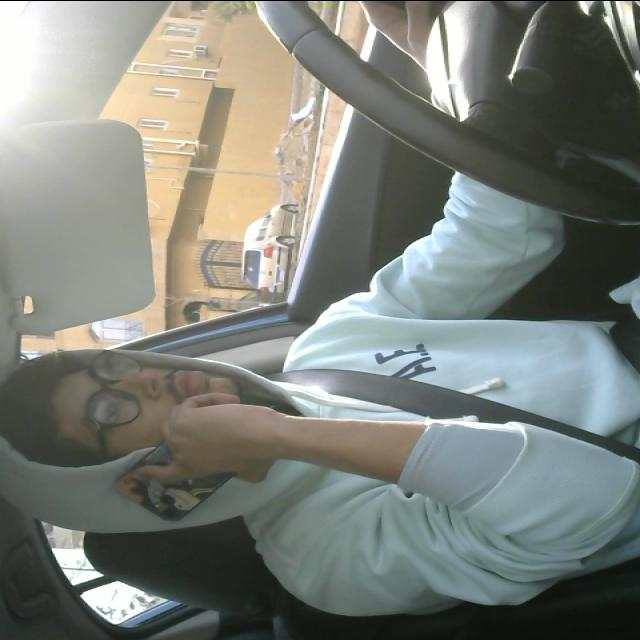mobile use: (106, 416, 242, 520)
